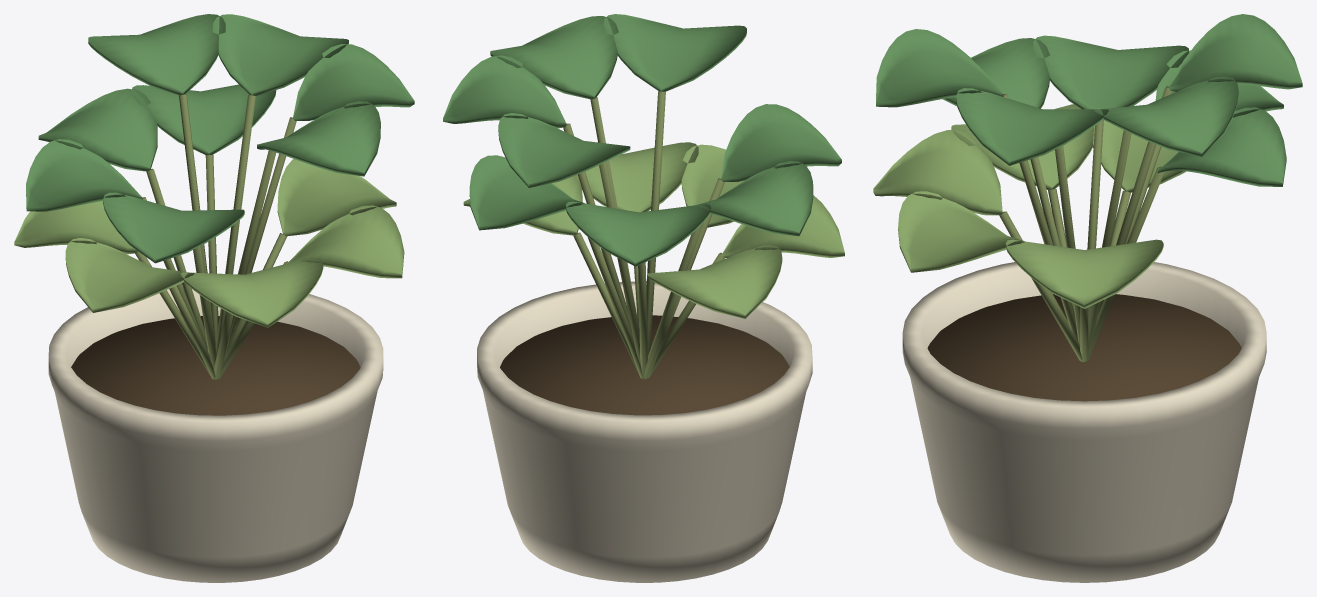
Rendered from bath_plant.glb.
The picture shows the model from 3 angles, left to right: view 1: azimuth 30°, elevation 25°; view 2: azimuth 150°, elevation 25°; view 3: azimuth 270°, elevation 25°; orthographic projection. The views are drawn at different scales.
Visible parts, largest first — view 1: bath_plant__body, bath_plant__leaves, bath_plant__young_leaves, bath_plant__soil, bath_plant__stems; view 2: bath_plant__body, bath_plant__leaves, bath_plant__soil, bath_plant__young_leaves, bath_plant__stems; view 3: bath_plant__body, bath_plant__leaves, bath_plant__young_leaves, bath_plant__soil, bath_plant__stems.
Part boxes in pixels (<box>): bath_plant__body: <box>48,283,383,582</box>; bath_plant__leaves: <box>26,14,414,263</box>; bath_plant__young_leaves: <box>14,159,404,327</box>; bath_plant__soil: <box>71,316,360,415</box>; bath_plant__stems: <box>135,94,296,379</box>; bath_plant__body: <box>477,281,812,582</box>; bath_plant__leaves: <box>443,14,841,266</box>; bath_plant__soil: <box>500,315,789,415</box>; bath_plant__young_leaves: <box>463,142,844,318</box>; bath_plant__stems: <box>563,91,725,379</box>; bath_plant__body: <box>902,262,1266,582</box>; bath_plant__leaves: <box>876,14,1302,186</box>; bath_plant__young_leaves: <box>873,104,1186,308</box>; bath_plant__soil: <box>927,294,1241,401</box>; bath_plant__stems: <box>999,86,1172,362</box>.
Bounding box in the file's own units: 0.1431 × 0.1759 × 0.1415.
